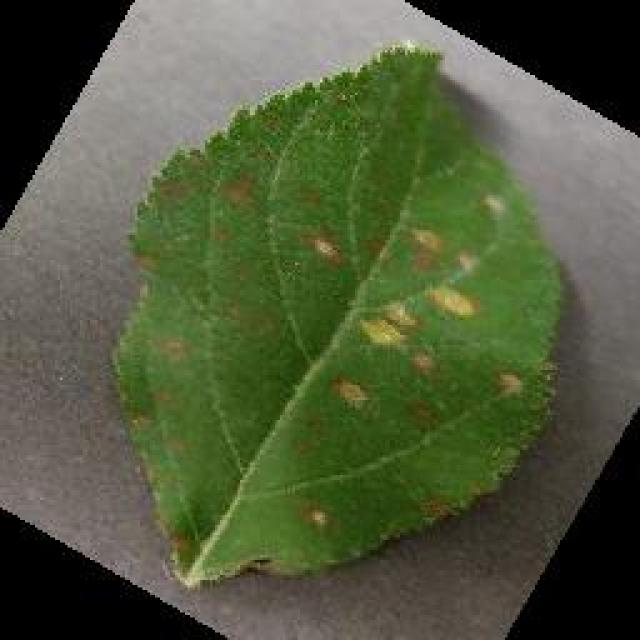apple healthy: (107, 38, 565, 588)
